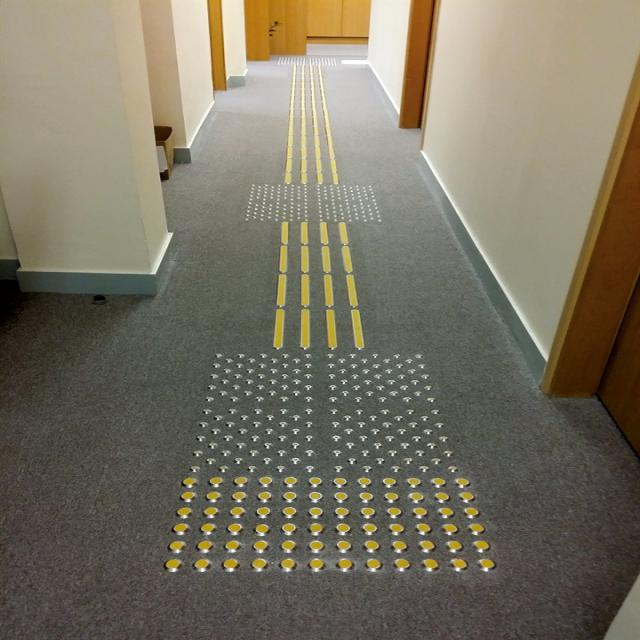tactile-guide-path: (161, 349, 499, 575), (267, 219, 369, 351), (286, 62, 340, 182), (246, 182, 383, 222)
